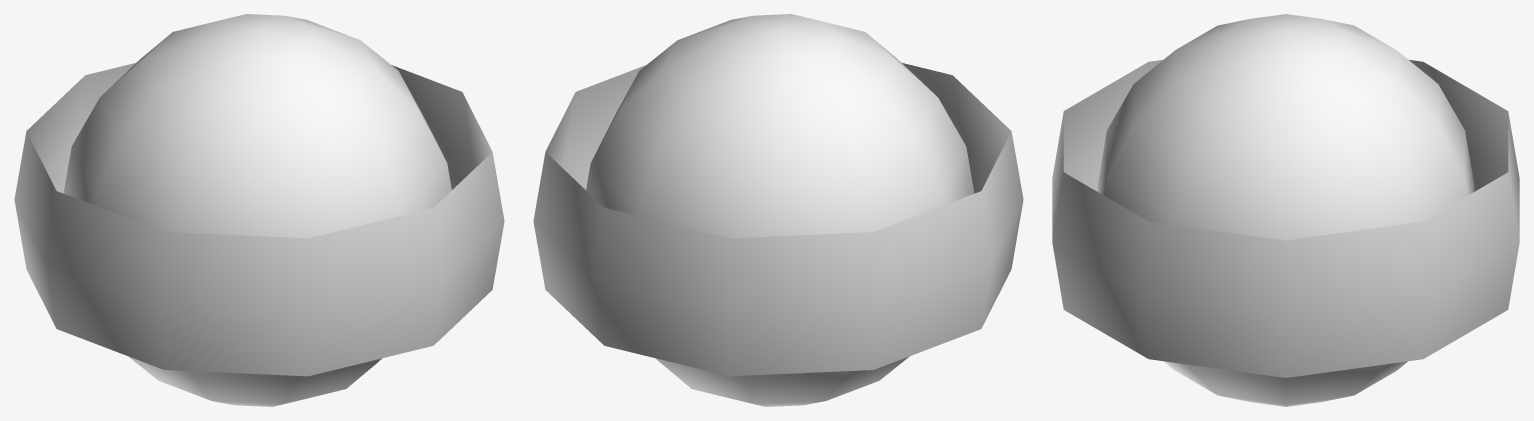
File: SM_futuristic_clock.fbx
The picture shows the model from 3 angles, left to right: view 1: azimuth 30°, elevation 25°; view 2: azimuth 150°, elevation 25°; view 3: azimuth 270°, elevation 25°; orthographic projection.
Visible parts, largest first — view 1: SM_Futuristic_clock; view 2: SM_Futuristic_clock; view 3: SM_Futuristic_clock.
Part boxes in pixels (x1,y1,x2,y2): SM_Futuristic_clock: [14, 14, 504, 406]; SM_Futuristic_clock: [533, 14, 1023, 406]; SM_Futuristic_clock: [1052, 14, 1519, 406].
Bounding box in the file's own units: 551 × 444 × 524.
